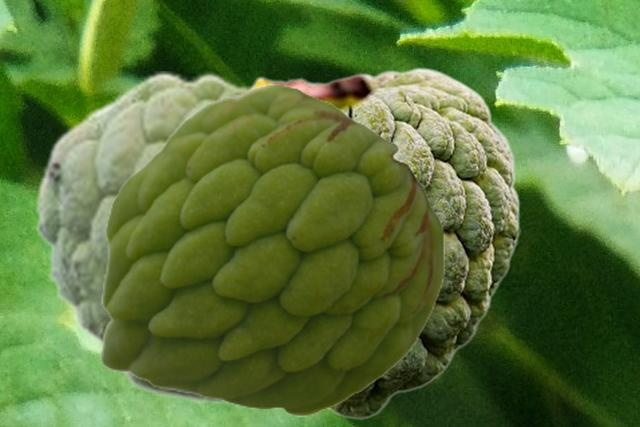atis: (100, 84, 443, 415), (250, 66, 519, 418), (34, 71, 278, 402)
